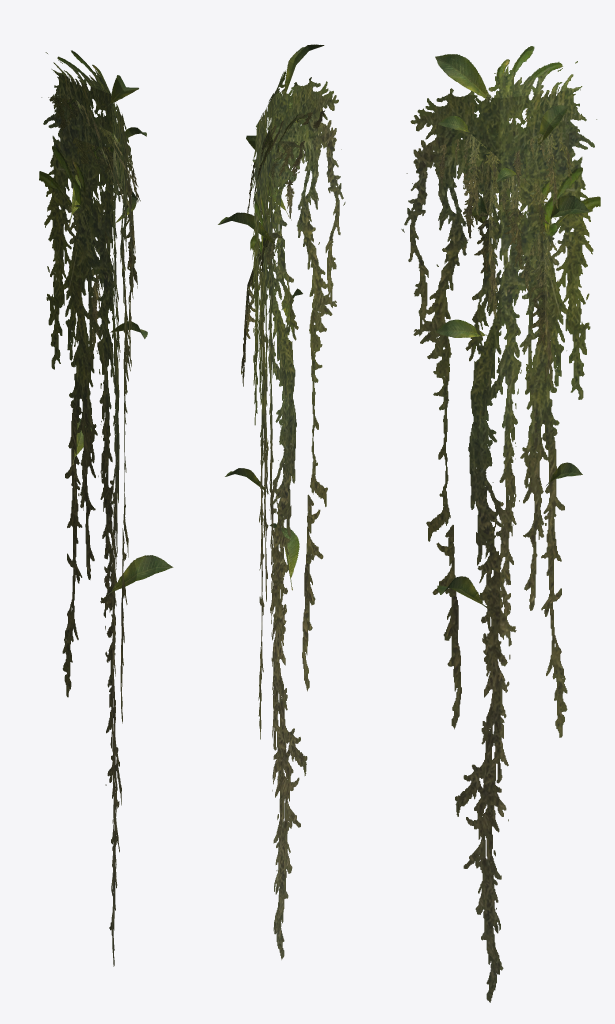
Rendered from bg_anh_foliage_tr_v41_02_sm_old.FBX.
3 renders of one model, left to right at view 1: azimuth 30°, elevation 25°; view 2: azimuth 150°, elevation 25°; view 3: azimuth 270°, elevation 25°, orthographic. The views are drawn at different scales.
Parts seen in each view (by area): view 1: bg_anh_foliage_tr_v41_02_sm_old; view 2: bg_anh_foliage_tr_v41_02_sm_old; view 3: bg_anh_foliage_tr_v41_02_sm_old.
Boxes of the visible parts, <box> form: bg_anh_foliage_tr_v41_02_sm_old: <box>39,50,173,966</box>; bg_anh_foliage_tr_v41_02_sm_old: <box>218,44,345,959</box>; bg_anh_foliage_tr_v41_02_sm_old: <box>401,46,600,1002</box>.
Bounding box in the file's own units: 34.4 × 352 × 65.77.
